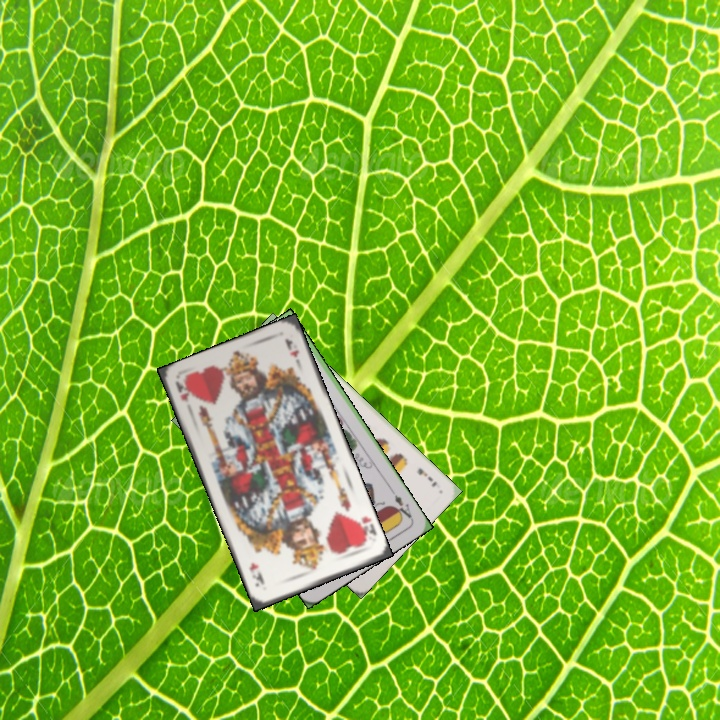E7: (413, 464, 439, 490)
EA: (387, 486, 415, 523)
HK: (352, 512, 379, 545), (171, 375, 192, 405)
